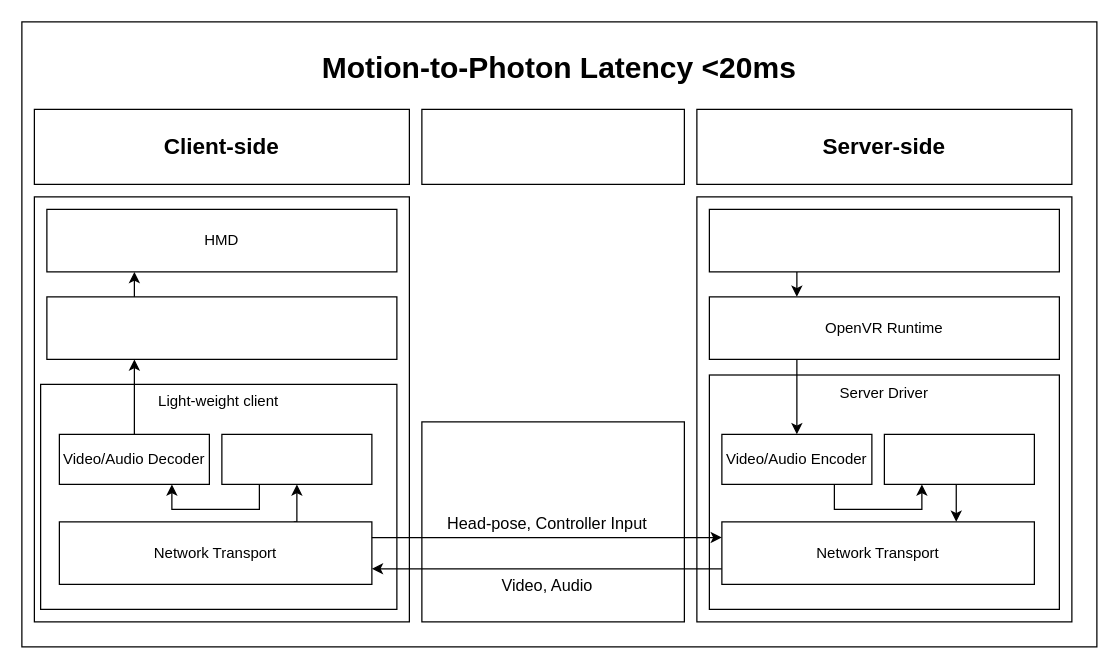
Image size: 1119x669. Some labels were removed from this diagram. Each missing label, with the box of its shape:
Decryption: (221, 433, 372, 484)
Encryption: (883, 433, 1034, 484)
Network Transport Protocol: (421, 421, 684, 622)
Networking: (421, 108, 684, 184)
VR Application: (708, 208, 1059, 272)
VR Runtime: (46, 296, 397, 359)
